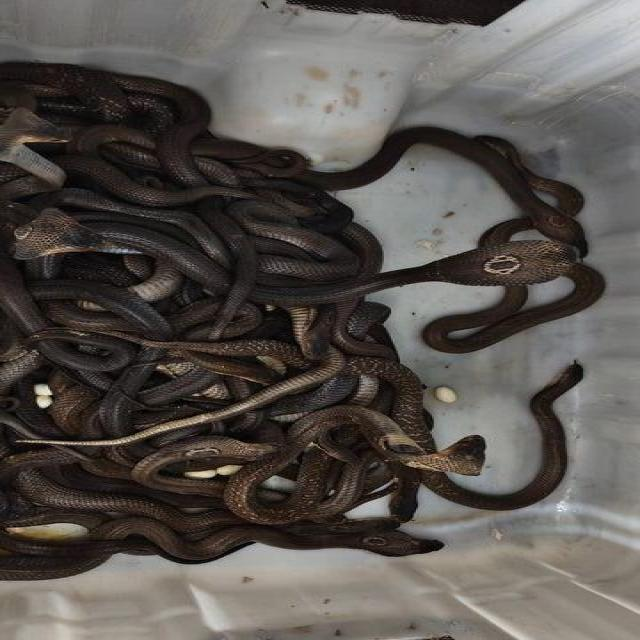Venomous: (1, 208, 124, 268), (440, 242, 582, 291), (342, 525, 465, 567), (409, 428, 490, 482), (0, 108, 64, 170), (181, 433, 284, 469)
